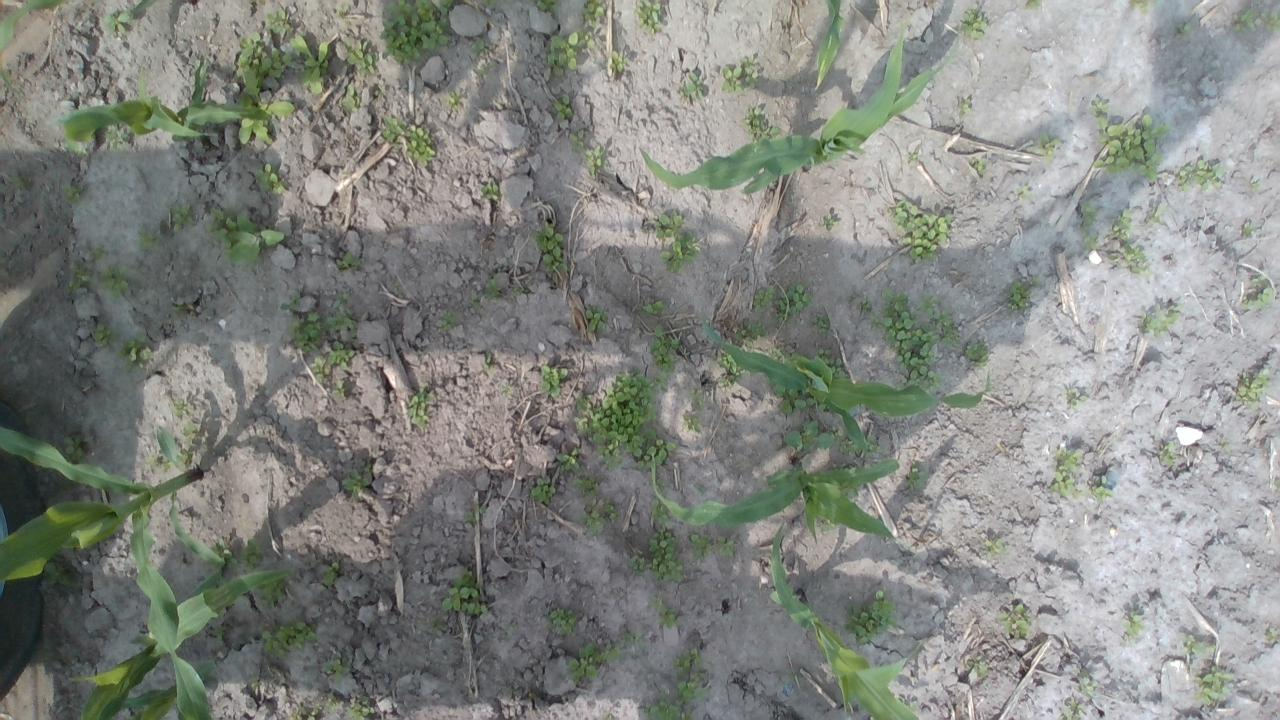Maize: (0, 425, 215, 720), (642, 33, 934, 194), (699, 318, 992, 452), (70, 563, 292, 720), (768, 519, 924, 720), (648, 452, 898, 540), (58, 61, 280, 140), (0, 0, 197, 80), (810, 0, 844, 89), (116, 680, 189, 720)
Weeds: (871, 288, 943, 391), (573, 368, 657, 444), (1092, 114, 1168, 184), (206, 205, 288, 266), (884, 196, 954, 266), (379, 0, 452, 63), (843, 590, 897, 646), (233, 30, 290, 80), (290, 32, 332, 98), (258, 615, 318, 661), (646, 527, 686, 582), (441, 570, 488, 615), (627, 428, 676, 469), (782, 419, 841, 452), (564, 641, 604, 687), (534, 221, 568, 274), (288, 304, 324, 354), (1194, 662, 1232, 706), (1050, 447, 1084, 496), (660, 232, 701, 272), (720, 56, 761, 96), (775, 384, 827, 415), (1176, 157, 1222, 192), (742, 103, 781, 144), (647, 324, 679, 368), (1234, 371, 1270, 410), (579, 502, 618, 538), (640, 692, 690, 720), (776, 283, 812, 321), (325, 294, 357, 336), (406, 124, 436, 168), (1078, 203, 1102, 258), (1233, 8, 1280, 36), (342, 38, 378, 74), (119, 334, 153, 372), (1240, 275, 1274, 313), (1006, 276, 1040, 314), (1110, 246, 1150, 278), (996, 602, 1033, 636), (1142, 303, 1180, 336), (547, 30, 578, 70), (814, 346, 849, 380), (100, 264, 131, 301), (341, 463, 371, 501), (406, 384, 431, 428), (254, 162, 288, 194), (734, 318, 768, 350), (238, 116, 273, 146), (1106, 206, 1134, 243), (65, 260, 96, 293), (258, 574, 288, 608), (542, 606, 576, 636), (958, 8, 989, 40), (635, 0, 662, 36), (648, 598, 678, 628), (1032, 132, 1064, 160), (102, 8, 136, 34), (43, 559, 71, 590), (672, 646, 704, 673), (655, 208, 683, 238), (170, 200, 197, 231), (238, 537, 264, 569), (964, 337, 990, 369), (542, 364, 568, 396), (937, 311, 960, 347), (1184, 632, 1217, 657), (208, 541, 237, 569), (62, 434, 89, 464), (678, 672, 704, 702), (598, 439, 623, 470), (584, 305, 610, 334), (239, 74, 261, 108), (346, 694, 374, 720), (1088, 96, 1110, 129), (680, 70, 704, 100), (585, 146, 607, 178), (382, 115, 408, 142), (137, 226, 160, 256), (688, 530, 714, 556), (266, 8, 292, 34), (328, 340, 352, 368), (532, 478, 556, 505), (984, 535, 1009, 560), (751, 287, 776, 312), (324, 657, 349, 682), (557, 447, 582, 472), (194, 658, 218, 684), (1122, 610, 1146, 636), (581, 0, 605, 26), (320, 559, 340, 590), (340, 84, 360, 114), (92, 322, 115, 348), (649, 496, 671, 523), (576, 472, 600, 496), (260, 100, 296, 116), (334, 250, 360, 272), (310, 356, 330, 384), (1061, 696, 1084, 720), (553, 94, 574, 120), (1157, 442, 1177, 469), (436, 310, 460, 332), (292, 702, 321, 720), (1089, 481, 1113, 502), (147, 452, 174, 470), (626, 552, 646, 576), (1145, 207, 1167, 228), (1080, 671, 1098, 696), (480, 179, 500, 201), (65, 138, 87, 158), (907, 464, 925, 488), (322, 692, 342, 713), (642, 300, 668, 316), (610, 50, 628, 73), (108, 125, 128, 145), (967, 656, 988, 675), (63, 183, 82, 204), (1066, 388, 1088, 406), (285, 288, 302, 311), (816, 312, 832, 336), (654, 371, 672, 392), (970, 156, 989, 175), (729, 365, 748, 384), (1175, 22, 1195, 40), (172, 398, 192, 416), (682, 412, 700, 432), (604, 644, 622, 664), (568, 128, 584, 150), (446, 88, 462, 110), (578, 30, 596, 49), (864, 434, 882, 453), (484, 276, 498, 300), (719, 536, 737, 554), (839, 484, 860, 499), (530, 0, 558, 11), (1128, 0, 1150, 14), (10, 174, 28, 191), (821, 213, 838, 231), (783, 352, 802, 368), (332, 378, 348, 397), (482, 351, 496, 372), (688, 390, 704, 408), (839, 442, 859, 456), (1015, 188, 1035, 202), (474, 62, 491, 78), (624, 631, 640, 648), (471, 40, 488, 56), (182, 422, 196, 441), (1242, 222, 1256, 240), (430, 617, 444, 635), (498, 382, 514, 397), (250, 671, 266, 686), (1219, 438, 1232, 456), (719, 353, 731, 369), (654, 479, 666, 495), (336, 4, 352, 16), (469, 294, 482, 308), (857, 299, 870, 313), (1246, 179, 1260, 192), (178, 448, 192, 461), (92, 246, 105, 260), (959, 100, 972, 114), (907, 148, 919, 162), (1026, 0, 1040, 10), (771, 351, 786, 360), (174, 302, 186, 313), (697, 485, 708, 497), (216, 624, 224, 640), (482, 0, 496, 8), (463, 511, 474, 521), (511, 287, 523, 296), (1265, 630, 1275, 640), (86, 134, 96, 144), (844, 463, 856, 471), (480, 504, 486, 514)
